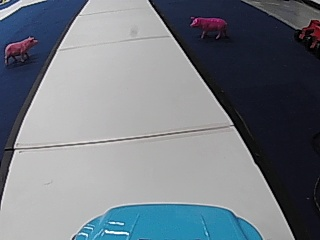pig: (2, 34, 37, 65), (188, 13, 229, 39)
tractor: (294, 18, 320, 52)
